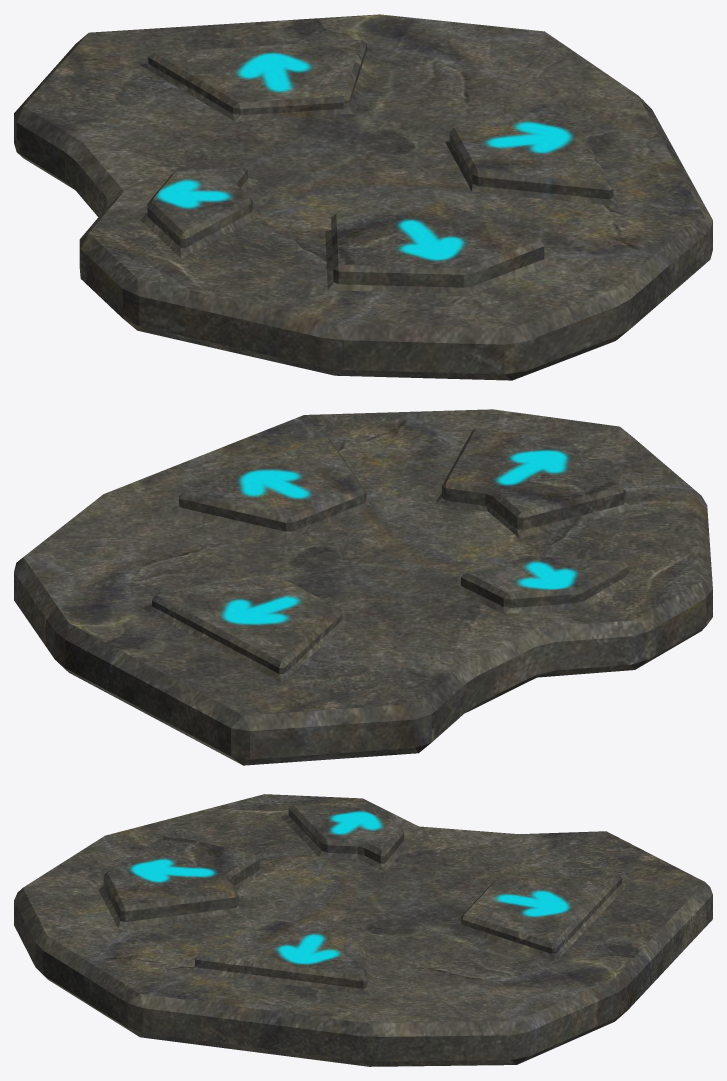
Rendered from stoneControlBoard.fbx.
3 views of the same model, one above another, from view 1: azimuth 30°, elevation 25°; view 2: azimuth 150°, elevation 25°; view 3: azimuth 270°, elevation 25° (orthographic). The views are drawn at different scales.
Parts seen in each view (by area): view 1: Plane; view 2: Plane; view 3: Plane.
Part boxes in pixels (left/top/right/bottom): Plane: left=14, top=14, right=712, bottom=380; Plane: left=14, top=409, right=712, bottom=765; Plane: left=14, top=794, right=712, bottom=1066.
Size of the model in its own units: 146 by 17.66 by 182.
1 material, 1 textured.
